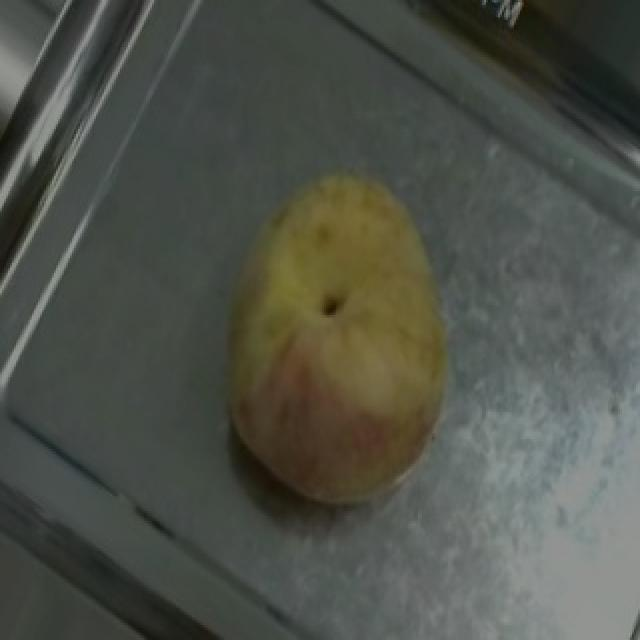Fruit: (182, 131, 496, 464)
